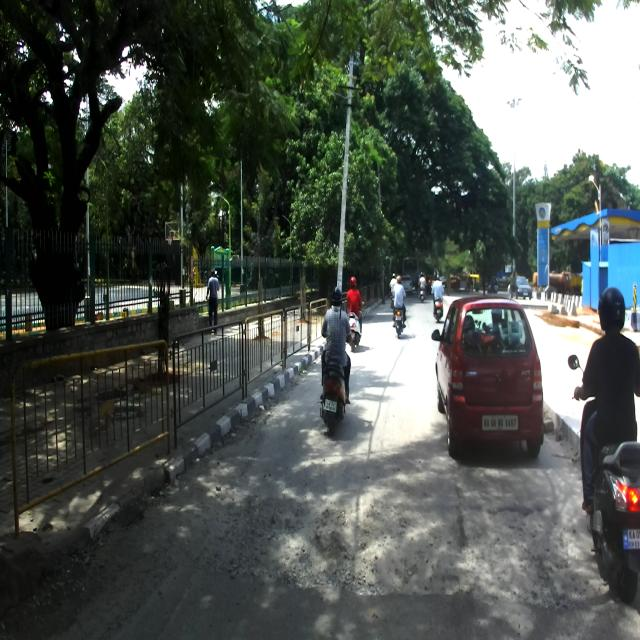bicycle ahead at: (319, 360, 351, 428)
car ahead at: (438, 289, 551, 476)
motorcycle ahead at: (587, 432, 640, 598), (387, 268, 408, 338)
